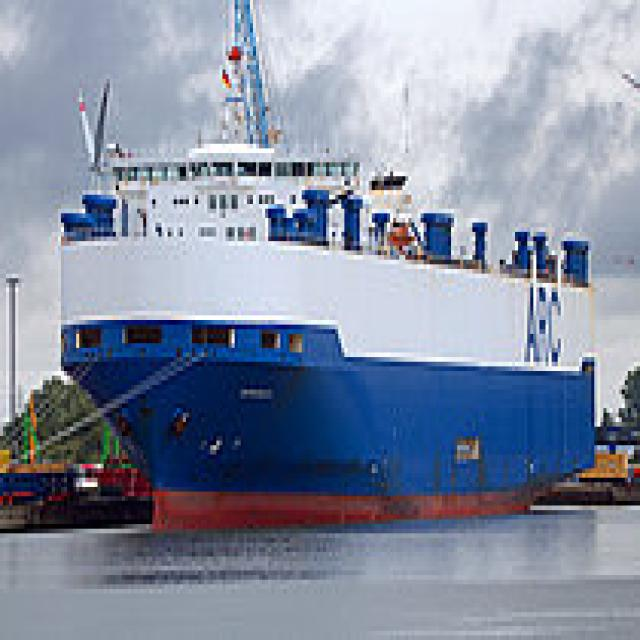Carrier: (52, 130, 597, 533)
